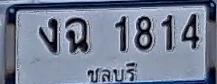1: (114, 16, 126, 52), (161, 15, 173, 50)
4: (181, 14, 199, 49)
8: (134, 15, 152, 50)
A07: (39, 18, 58, 53)
A09: (65, 18, 89, 52)
CBI: (84, 60, 140, 84)
